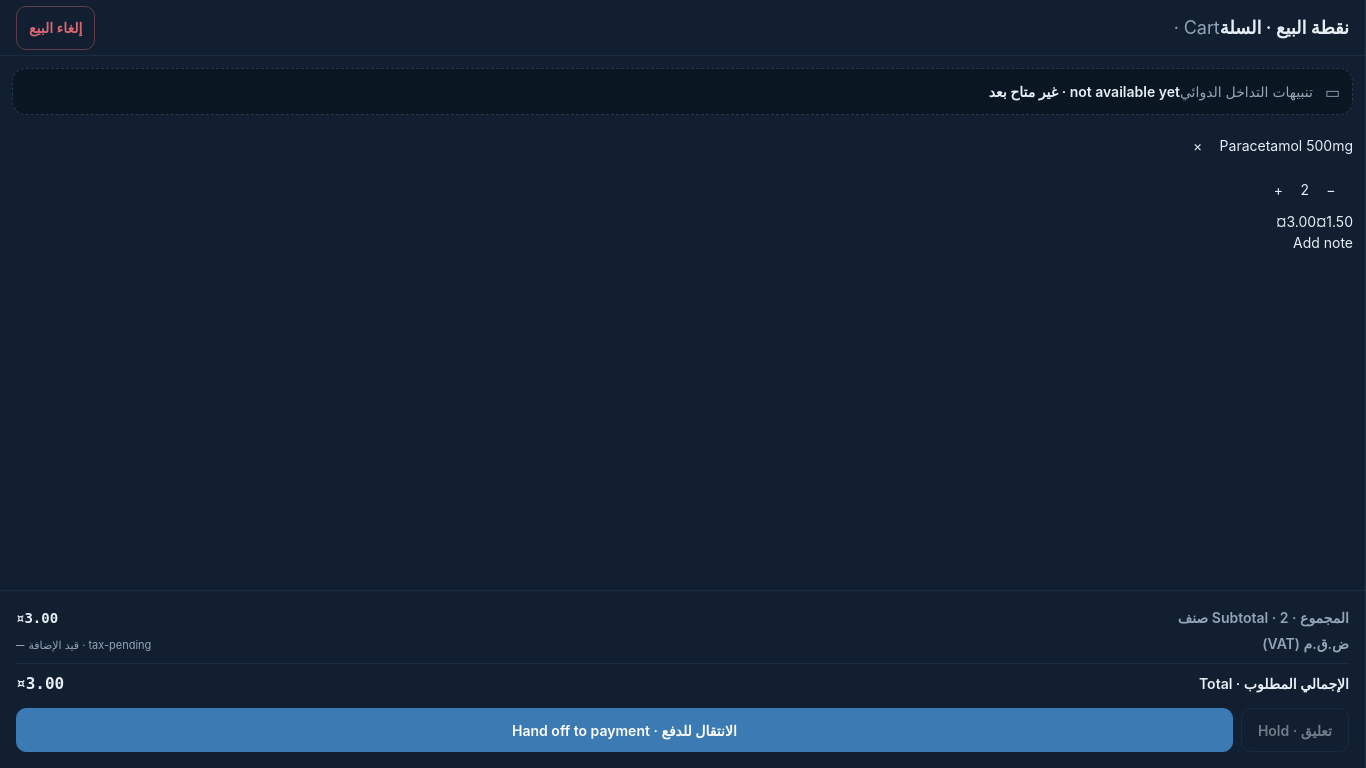
Test: CartPane handoff — ok response › renders HandoffSummary after ok response (handoff-summary present)
The image size is (1366, 768).
Click the button with test id "cart-handoff-button" at (624, 730), box x1=16 y1=708 x2=1233 y2=752
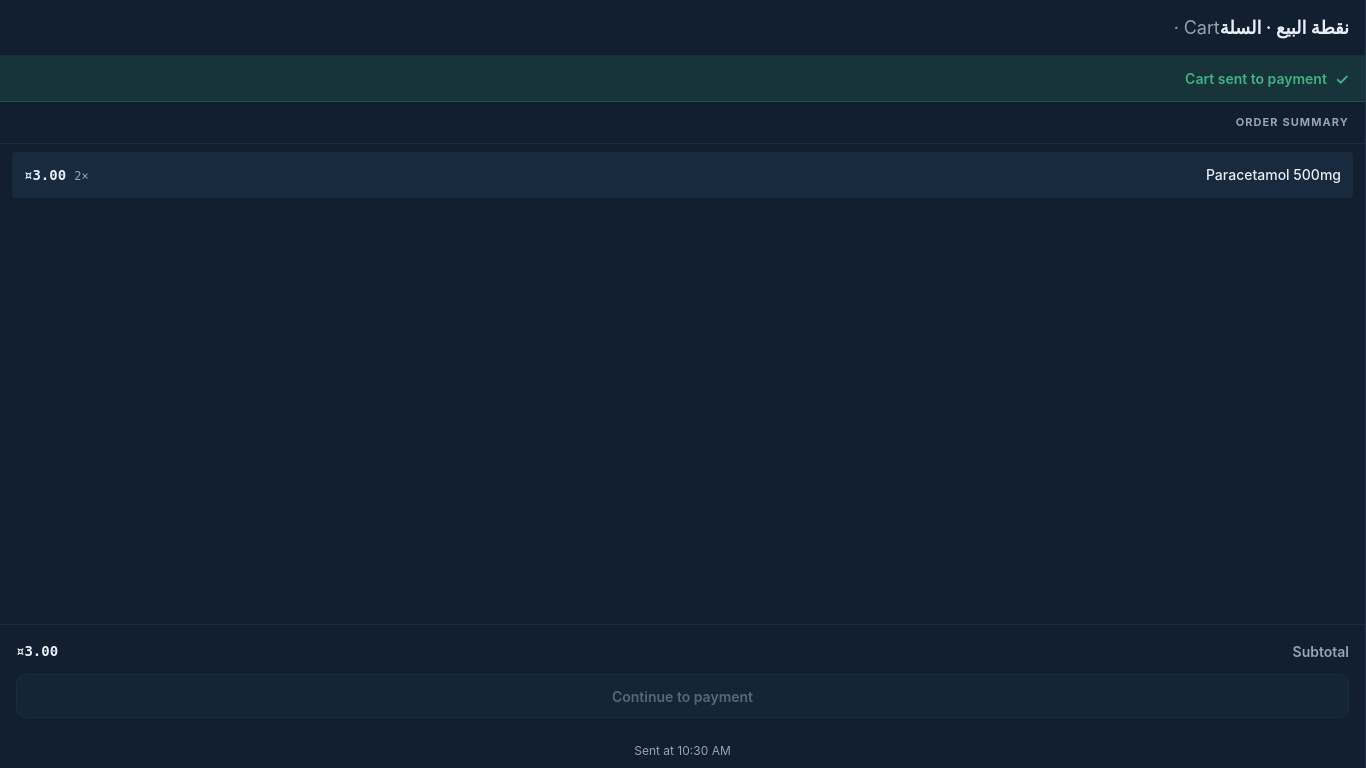
Expected: the element with class "handoff-summary" is shown
